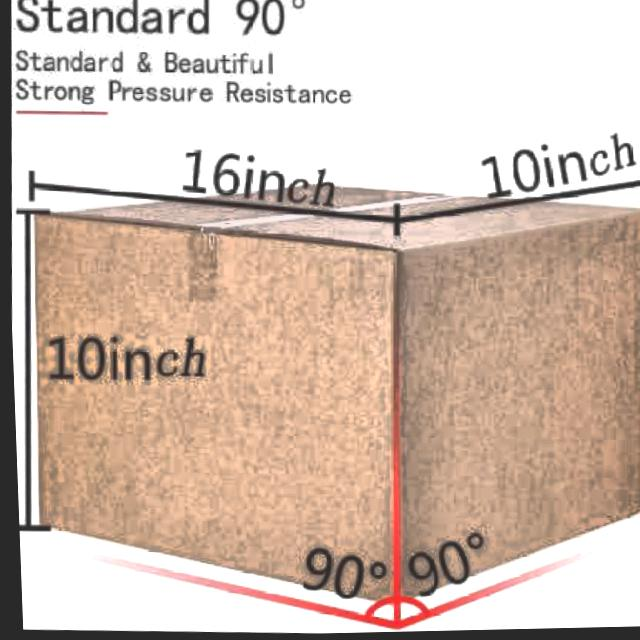Cardbox: (4, 123, 640, 627)
